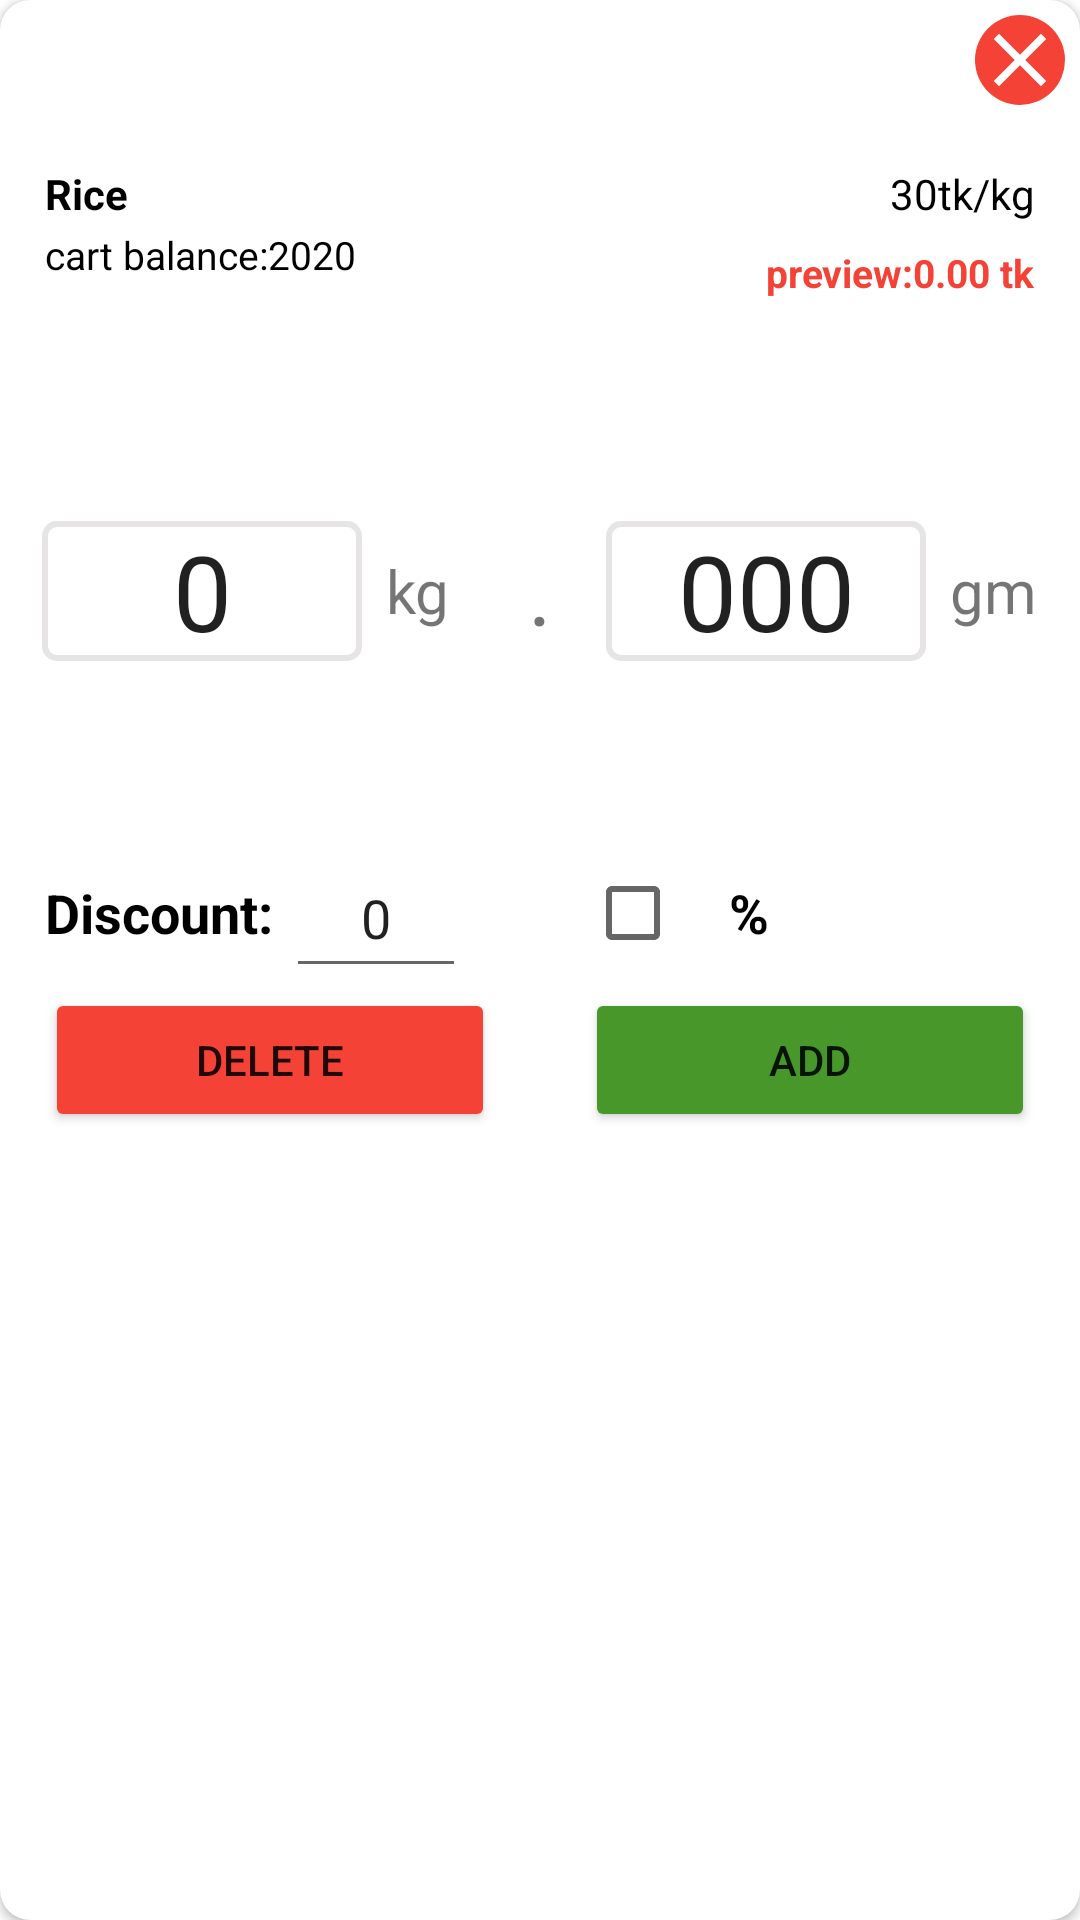

Named icons in this screenshot (1080x1920) and their centers, (x=x, y=y):
clear: (x=1020, y=60)
